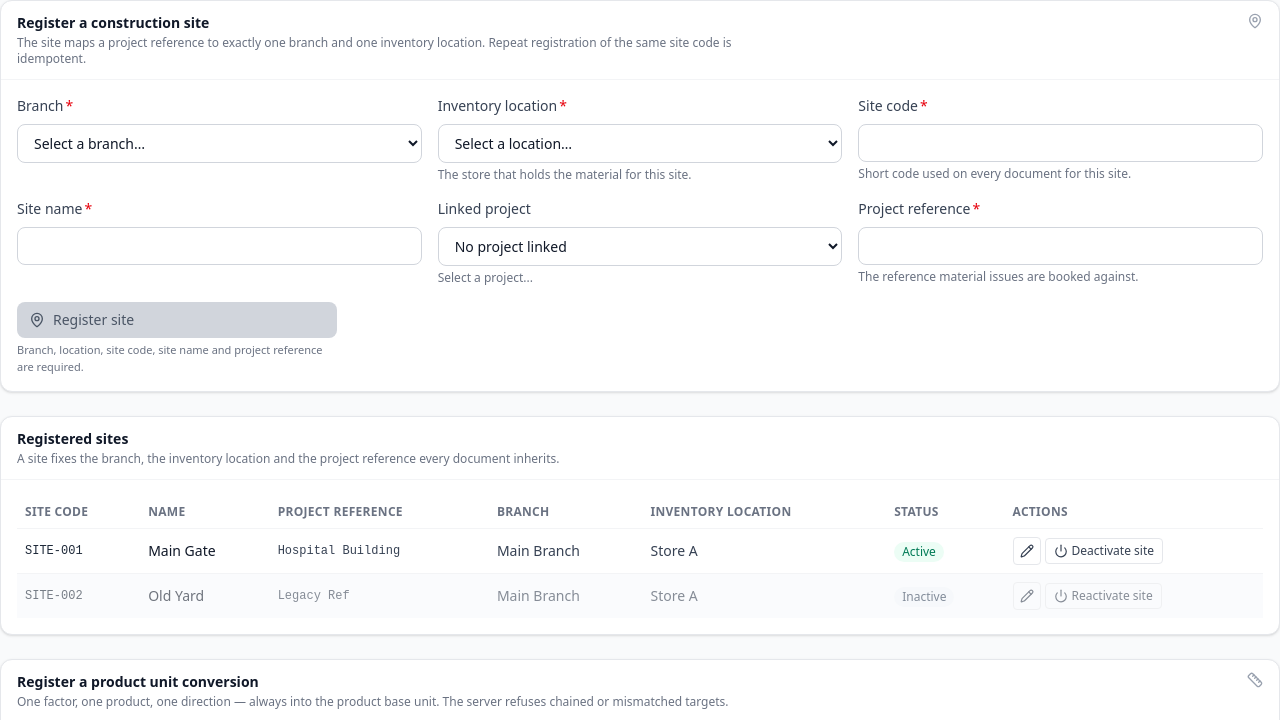
Test: construction setup — site lifecycle (P2-4) › saves name and link edits through the update RPC and documents the re-register rule
This screenshot has width=1280, height=720.
Click the button named "Edit site" in the row of "SITE-001".
click(1027, 551)  # box [1013,537,1041,565]
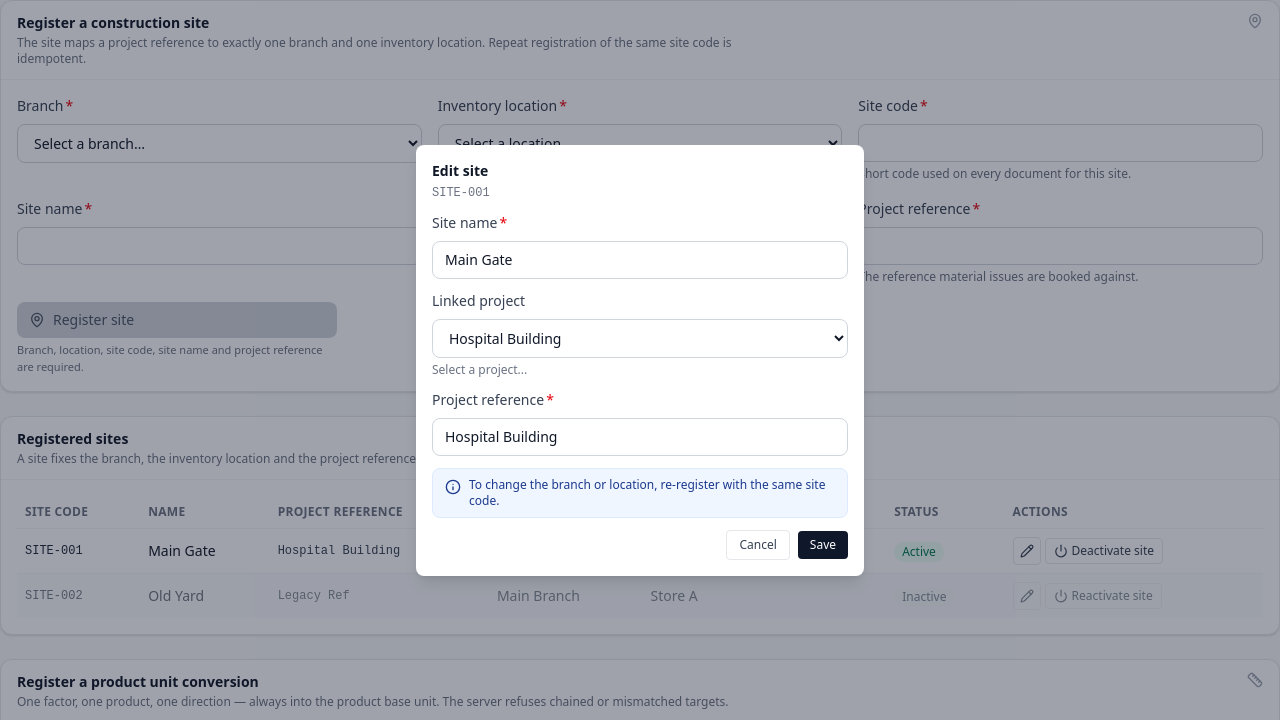
Now the text "To change the branch or location, re-register with the same site code." is shown, box [469,476,835,508]
Now the field labelled "Site name" holds "Main Gate"
Replace the text in the field labelled "Site name" with "Hospital Main Gate" at (640, 260), box [432,240,848,278]
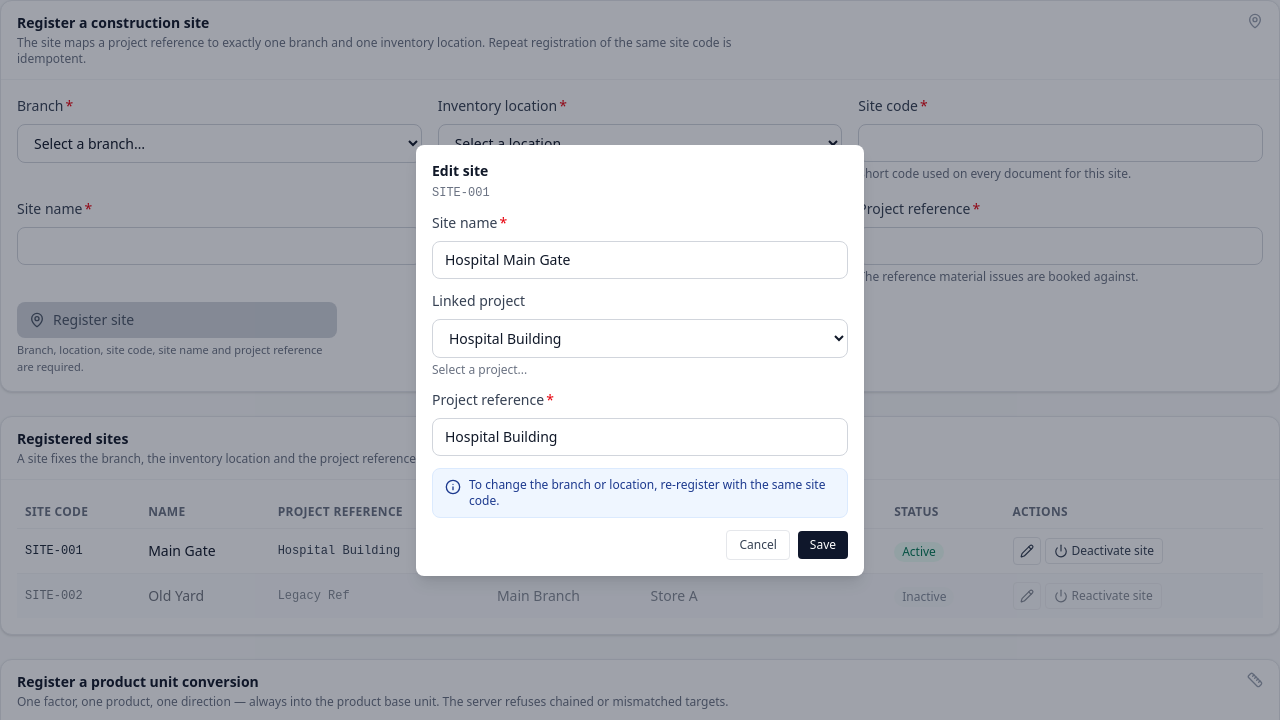
Click the button "Save".
click(823, 544)  # box [798,530,848,558]
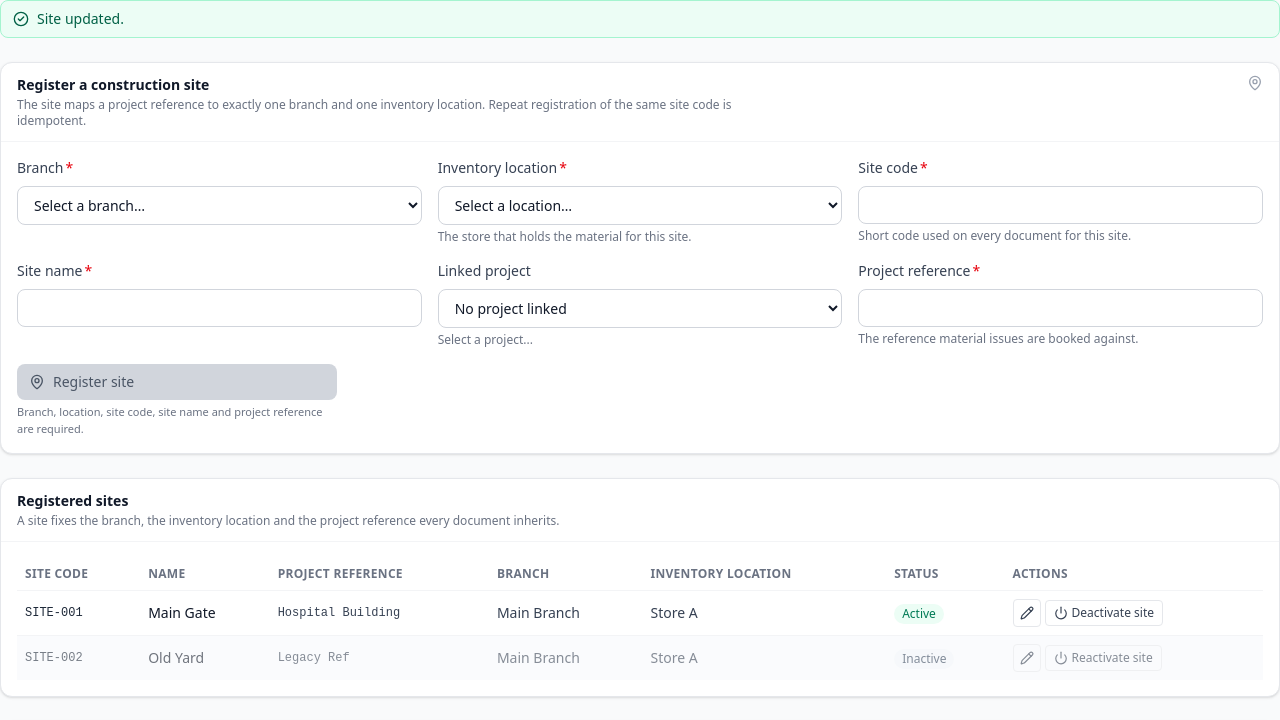
Now the text "Site updated." is shown, box [37,9,124,29]
